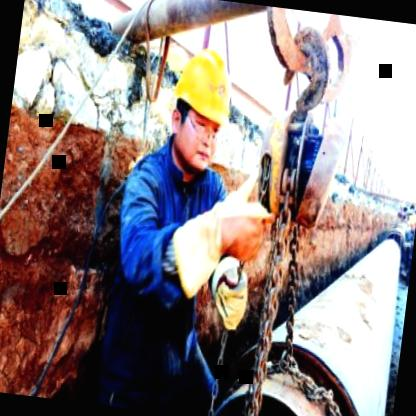helmet: (158, 34, 242, 184)
